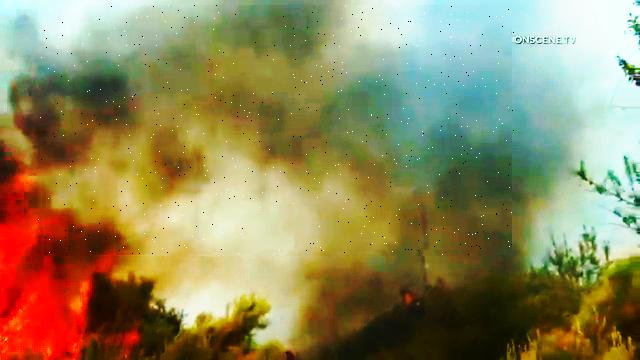smoke: (39, 5, 515, 256)
